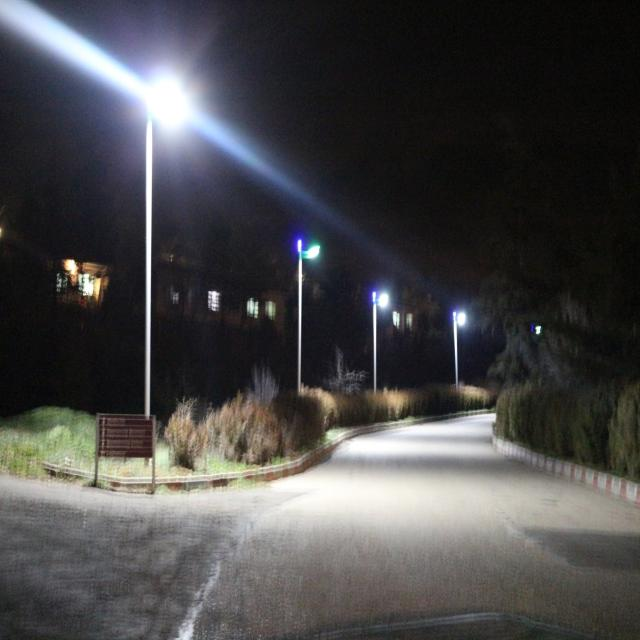Street Light: (140, 89, 186, 468), (298, 245, 320, 423), (372, 293, 389, 410), (454, 312, 466, 397)
